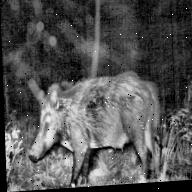boar: (23, 51, 192, 184)
